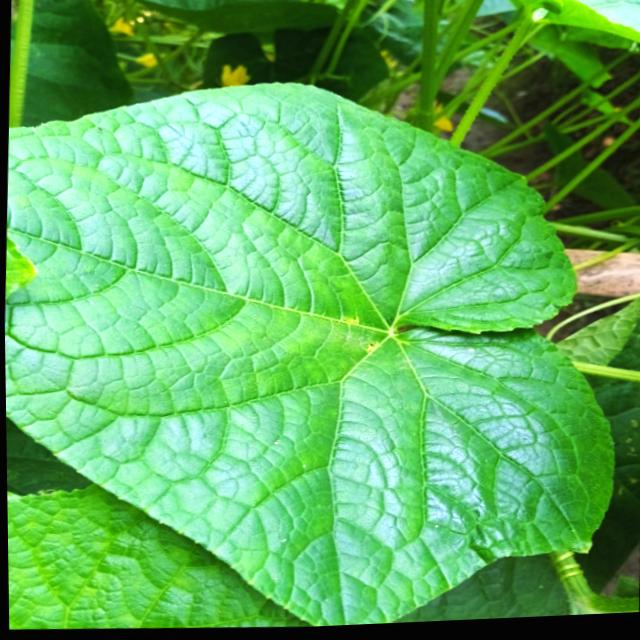Fresh-Leaf: (5, 85, 618, 626)
